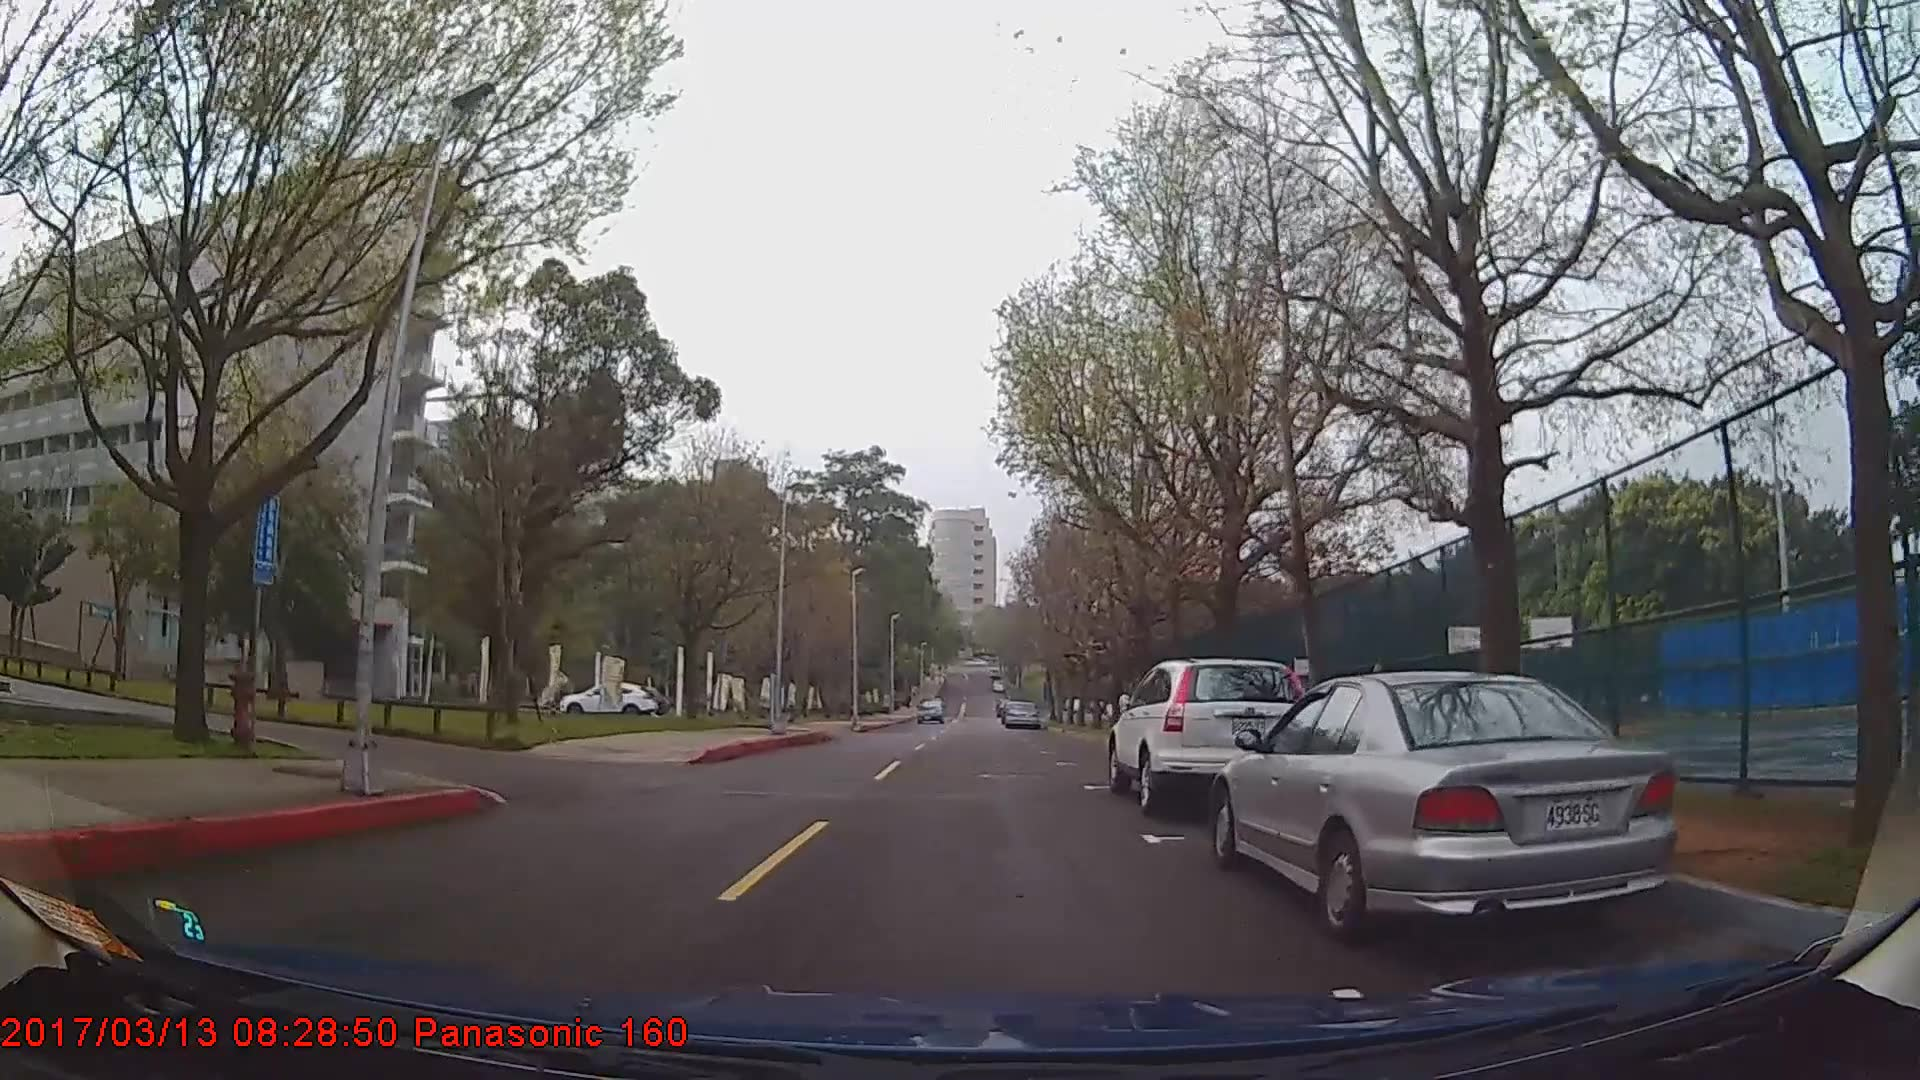vehicle: (1212, 669, 1677, 938), (1105, 659, 1317, 814), (563, 679, 659, 717), (1001, 698, 1040, 731), (916, 694, 944, 723)
